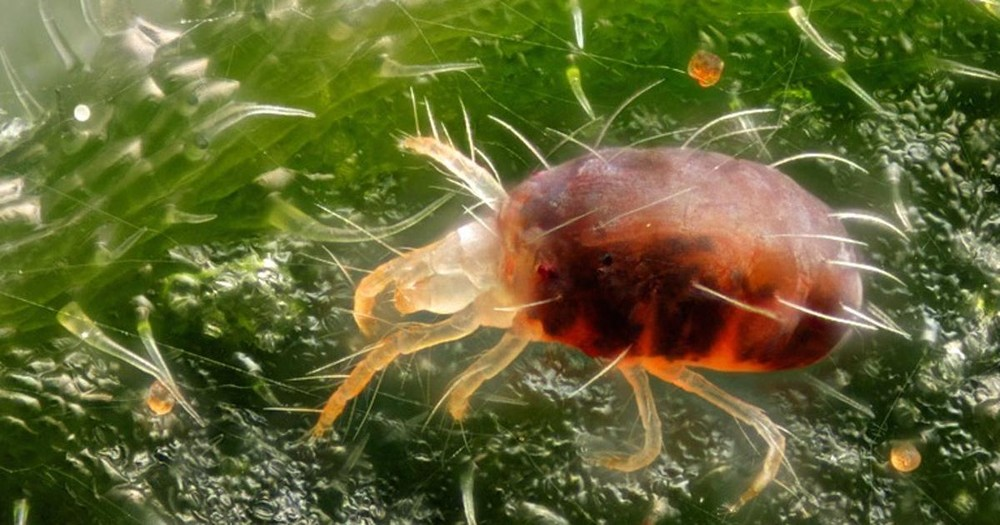Aracnido Rojo: (317, 117, 915, 505)
